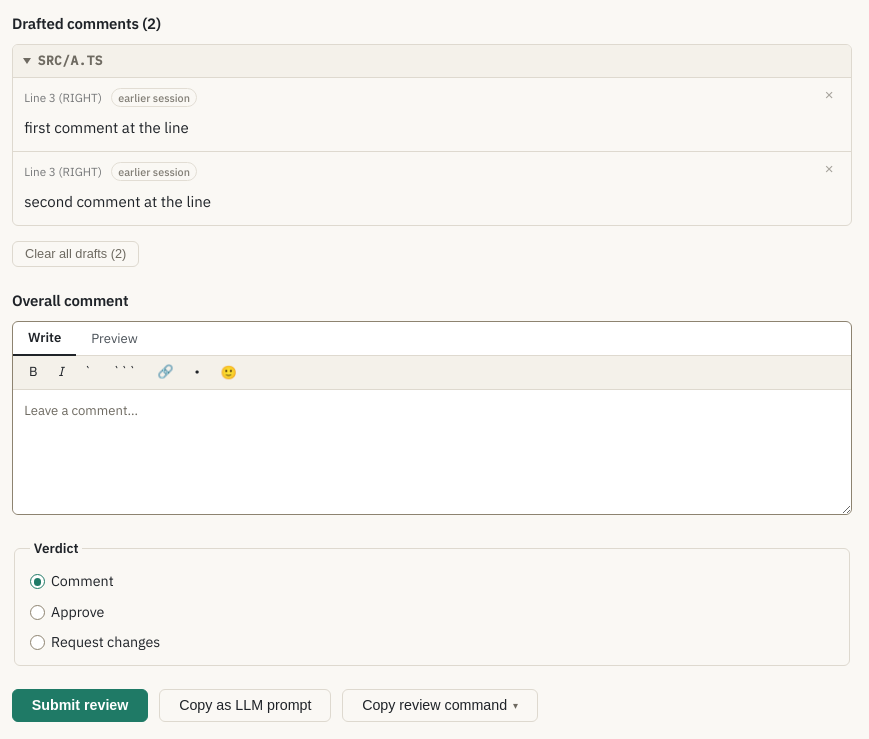
it: VerdictStep — recap draft lifecycle › lists EVERY draft at the same line as its own row; per-row remove deletes exactly that one
expect the heading "Drafted comments (2)" is shown: met, box [12,14,161,33]
expect the text "first comment at the line" is shown: met, box [24,118,189,137]
# Remove the SECOND draft (disambiguated aria-label carries the ordinal)
Click the button named "Remove draft at src/a.ts line 3 (comment 2)" at (829, 169), box [818,159,840,178]
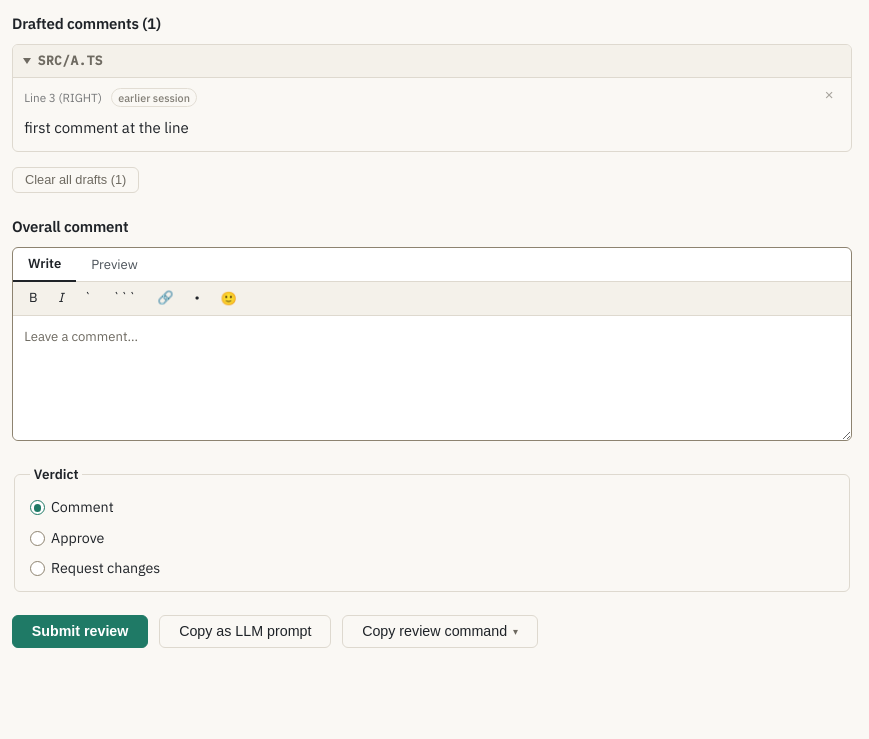
expect the text "first comment at the line" is shown: met, box [24,118,189,137]
expect the heading "Drafted comments (1)" is shown: met, box [12,14,161,33]
expect the text "second comment at the line" is gone: met
